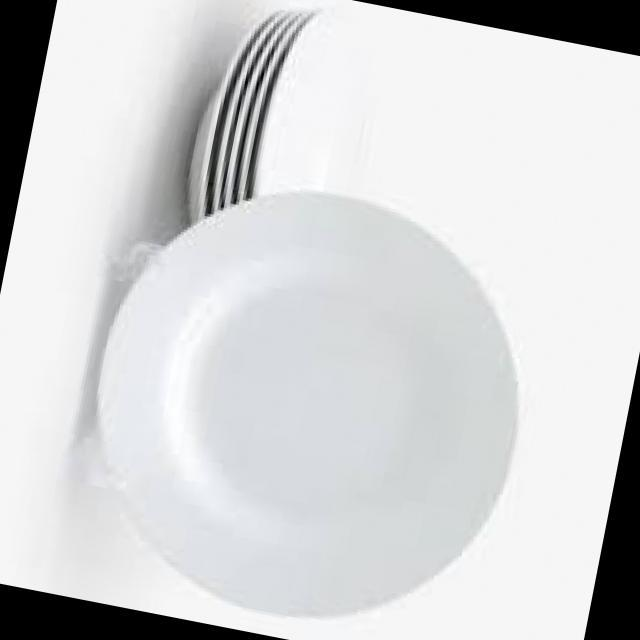Plate: (48, 142, 569, 640)
